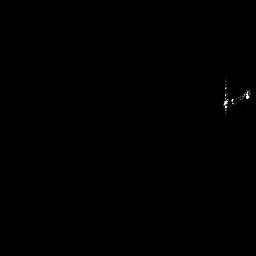ship: (220, 78, 252, 114)
